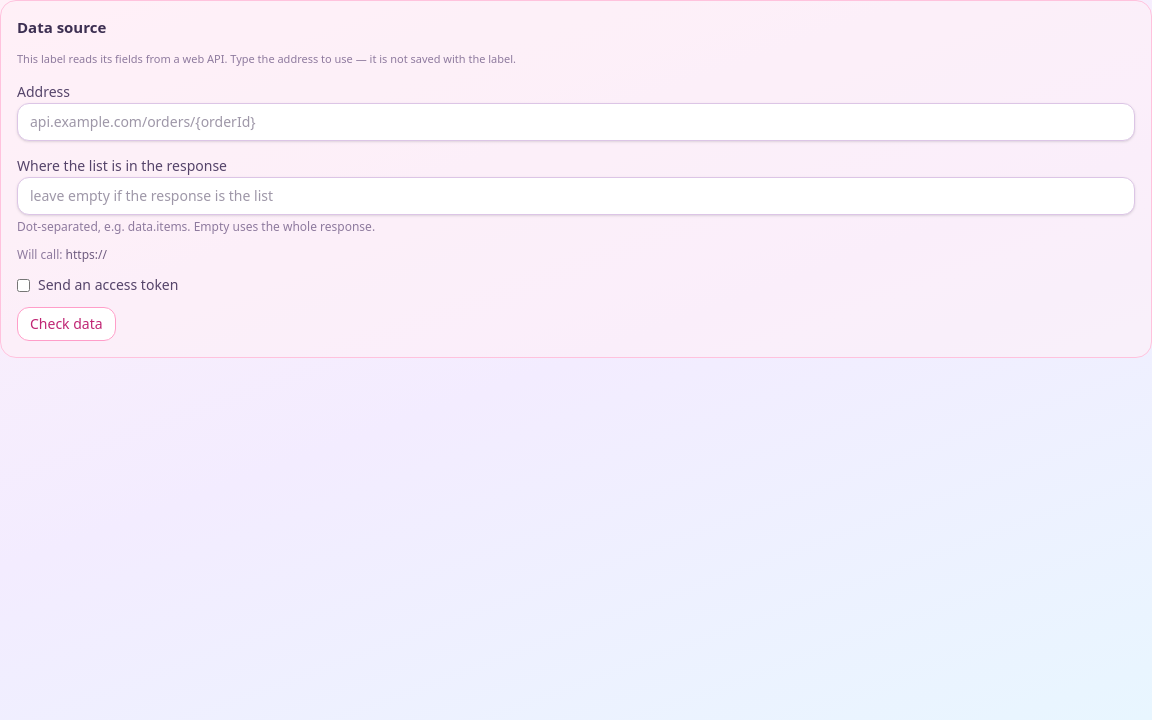
Test: the data source card › passes the list path when one is typed
Type "a.com/x" into the field labelled "Address".
click(576, 122); type("a.com/x")  # box [17,103,1135,141]
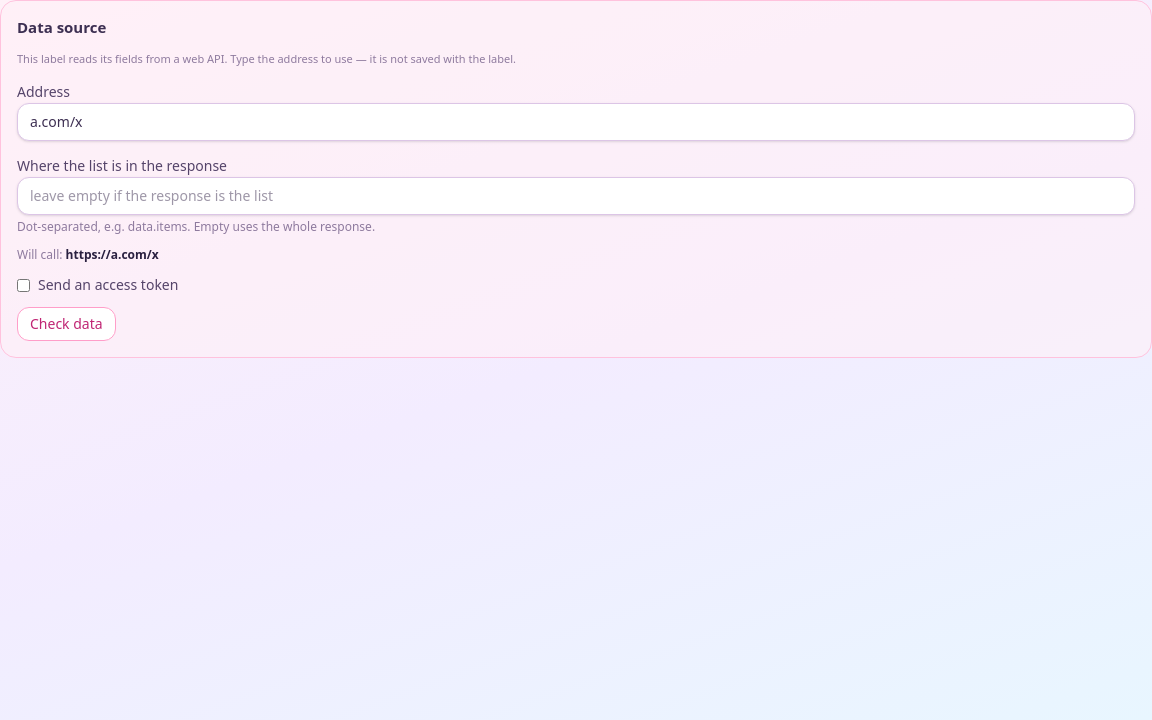
Type "data.items" into the field labelled "Where the list is in the response".
click(576, 196); type("data.items")  # box [17,177,1135,215]
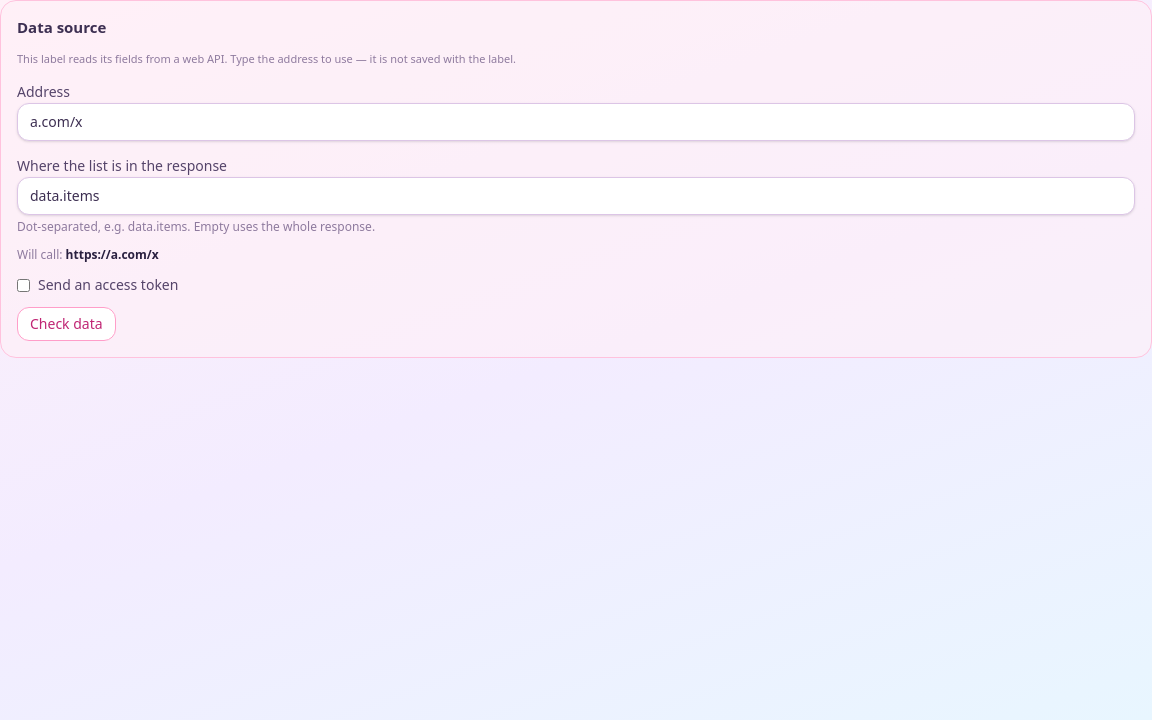
Click the button "Check data".
click(66, 324)  # box [17,307,116,341]
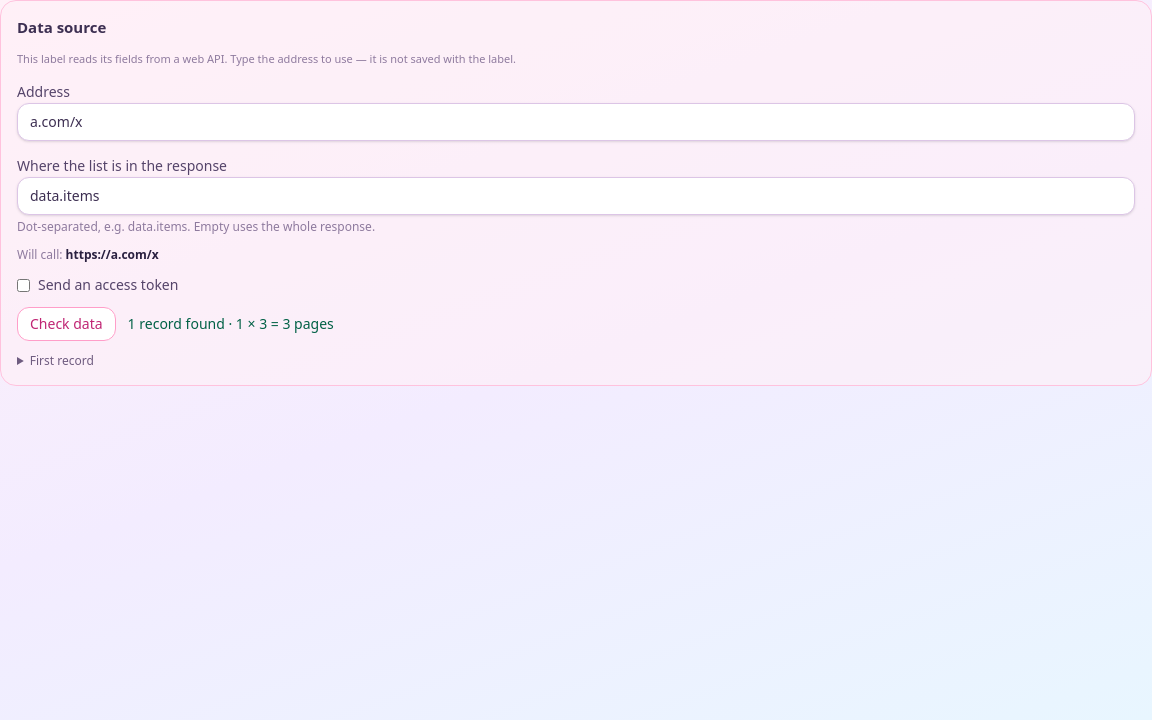
expect the message "1 record found · 1 × 3 = 3 pages" is shown: met, box [128,314,334,334]
